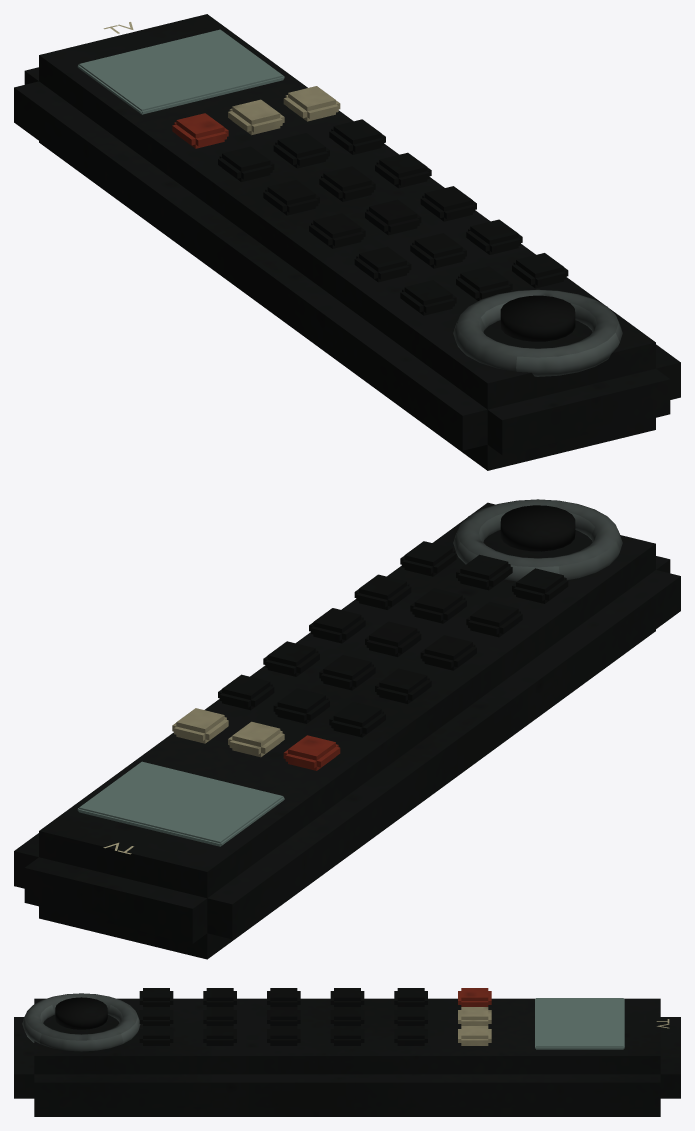
File: prop_television_remote.glb
3 views of the same model, one above another, from view 1: azimuth 30°, elevation 25°; view 2: azimuth 150°, elevation 25°; view 3: azimuth 270°, elevation 25° (orthographic). The views are drawn at different scales.
Parts seen in each view (by area): view 1: prop_television_remote; view 2: prop_television_remote; view 3: prop_television_remote.
Boxes of the visible parts, x1,y1,x2,y2 form: prop_television_remote: (14, 14, 680, 470); prop_television_remote: (14, 499, 680, 959); prop_television_remote: (14, 988, 680, 1116).
Bounding box in the file's own units: 0.047 × 0.0235 × 0.178.
Materials: 7 (6 with a texture image).
